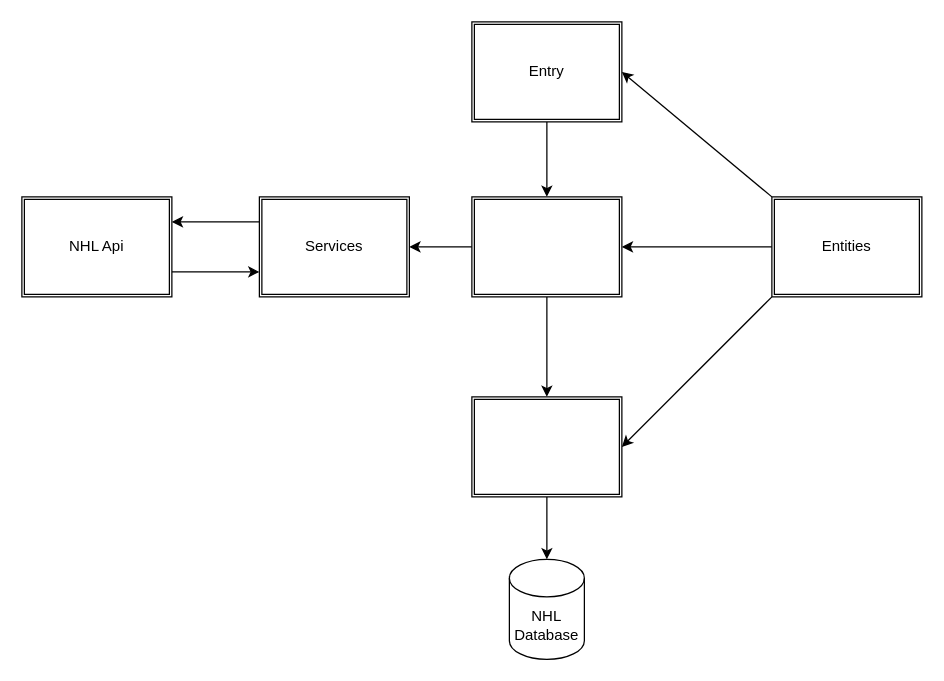
The diagram is 944 pixels wide and 681 high, and some of its shapes have lost their labels. The shapes that lost their labels are listed below. From the top down, each one's centre as x and y in pixels, then its label:
the point at 546,246: Business Logic
the point at 546,446: Data Repository
